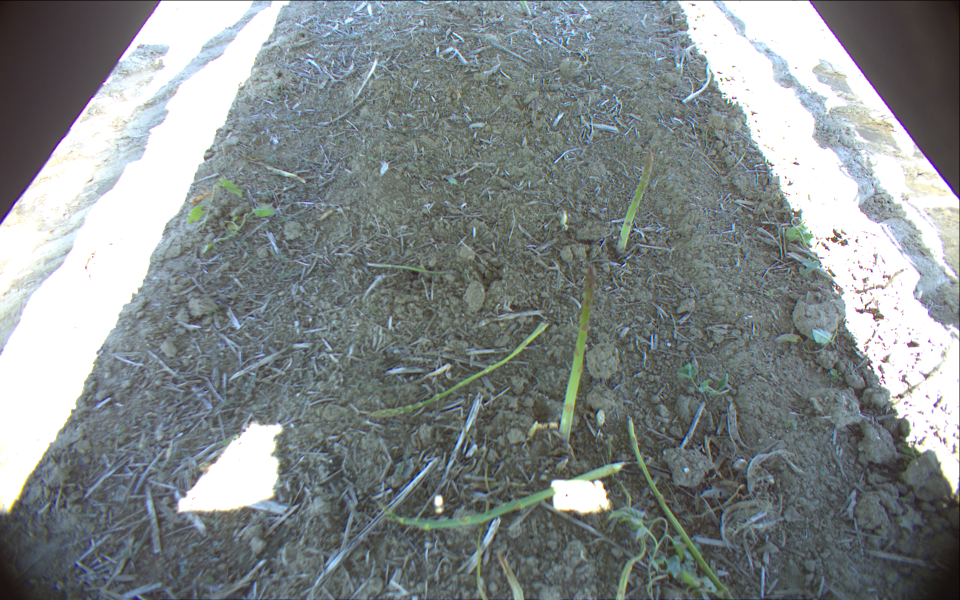aspa: (556, 266, 596, 442), (612, 148, 654, 259)
